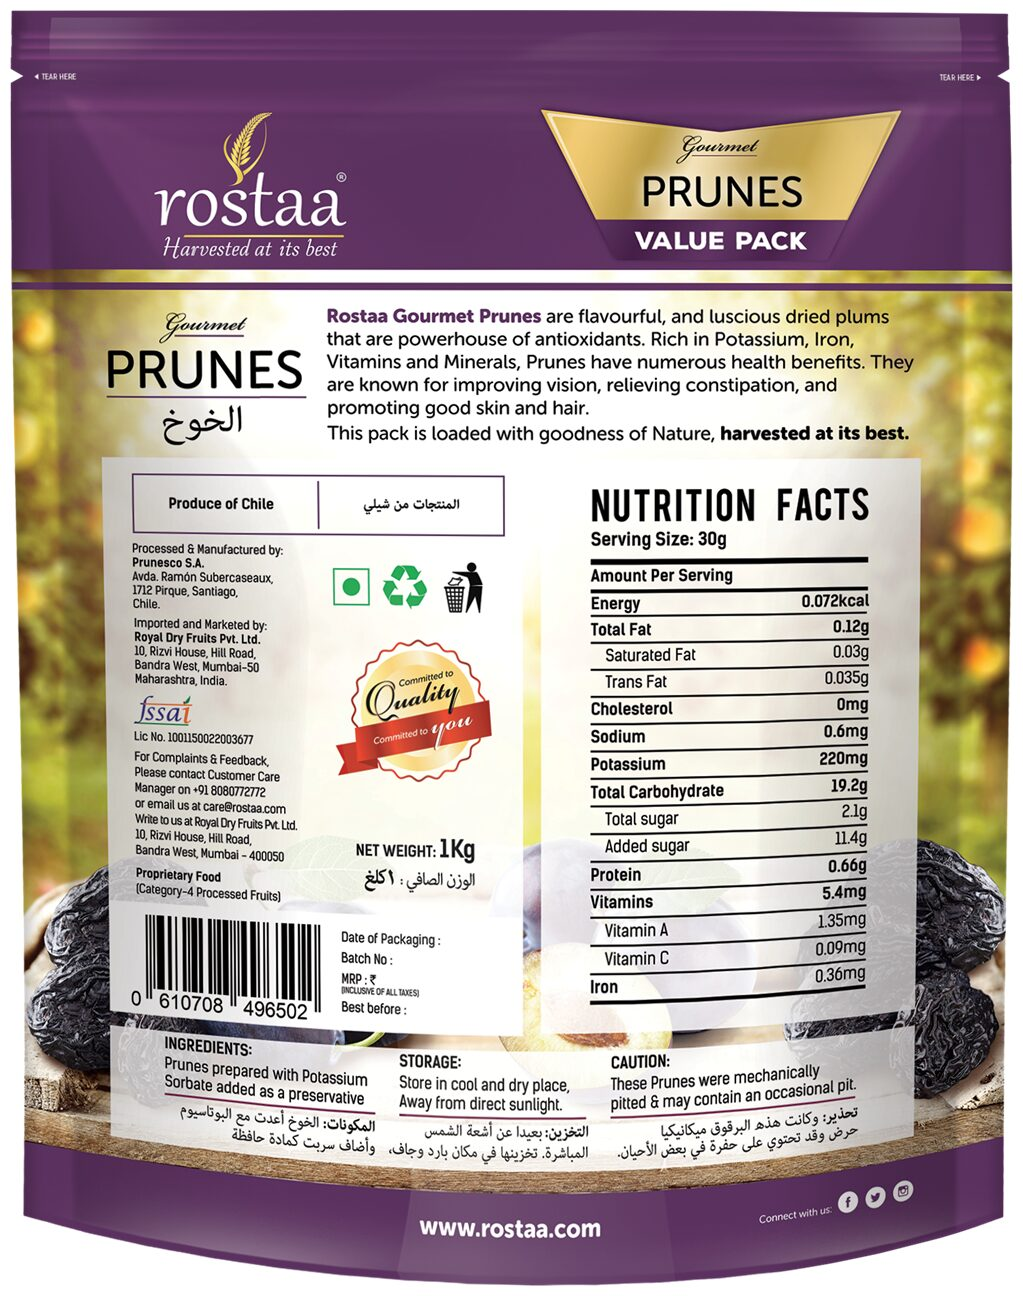fssai: (136, 691, 194, 728)
